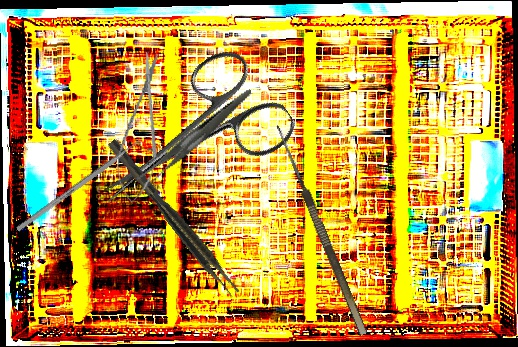Dressing Forceps: (121, 88, 270, 191)
Hook Surgical: (263, 123, 368, 341)
Iris Scissors: (74, 38, 302, 246)
Micro Scissor: (111, 50, 172, 205)
Pusher: (15, 131, 151, 233)
Tissue Forceps: (107, 134, 242, 301)
